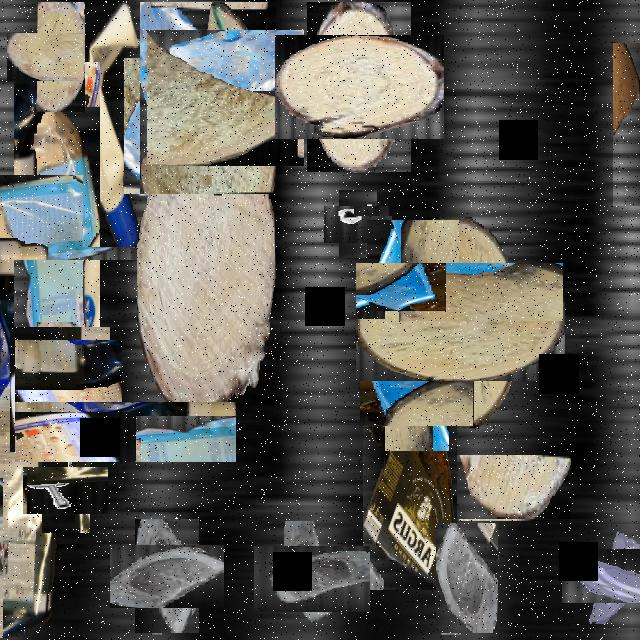glass: (367, 220, 459, 384), (124, 58, 200, 194), (266, 534, 358, 625), (372, 350, 462, 439), (122, 532, 212, 620), (436, 523, 498, 633), (573, 536, 640, 615), (0, 306, 15, 473), (0, 478, 3, 638)
metal: (33, 457, 99, 524), (332, 198, 384, 250)
plastic: (0, 313, 148, 550), (0, 118, 156, 315), (363, 398, 457, 590), (83, 2, 147, 247), (4, 333, 116, 446)
wood: (137, 187, 275, 414), (378, 240, 542, 404), (126, 16, 290, 180), (290, 18, 428, 156), (457, 455, 571, 519), (21, 18, 100, 96), (613, 43, 640, 206)
